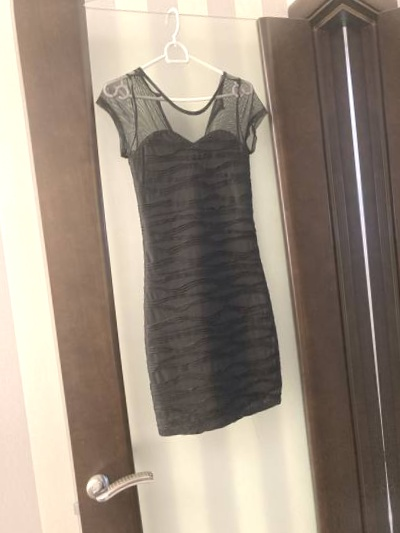Dress: (90, 51, 324, 455)
